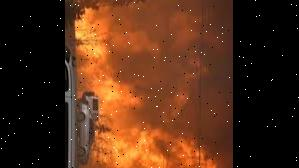fire: (75, 0, 149, 105), (111, 110, 224, 168)
